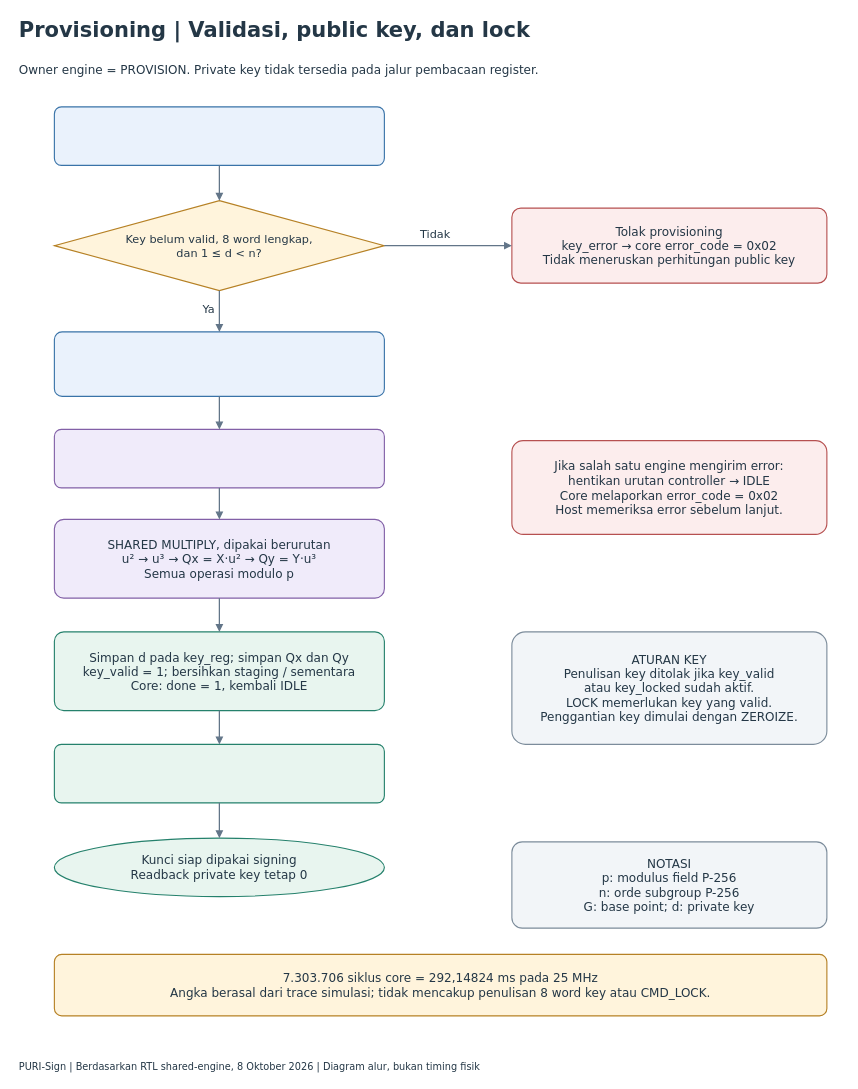
The diagram is 858 pixels wide and 1089 high, and some of its shapes have lost their labels. The shapes that lost their labels are listed below. From the top down, each one's centre as x and y in pixels, then its label:
the point at 219,136: Tulis 8 word private key ke staging Kemudian CMD_PROVISION
the point at 219,364: SHARED SCALAR Hitung Q = dG → koordinat Jacobian (X,Y,Z)
the point at 219,458: SHARED INVERSE u = Z⁻¹ mod p
the point at 219,773: HOST: CMD_LOCK Key valid → key_locked = 1
